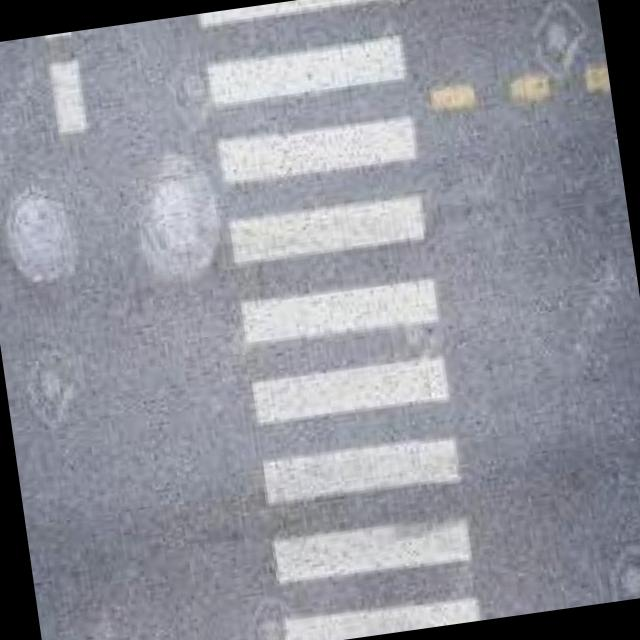zebra: (203, 0, 478, 640)
